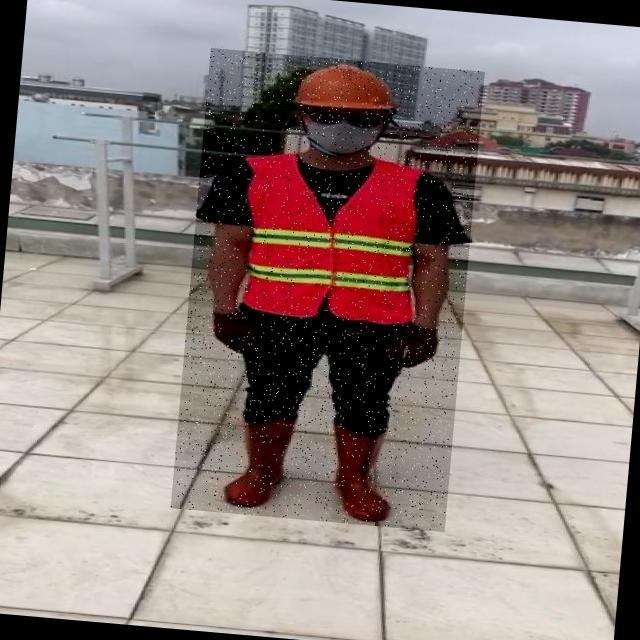Gloves: (212, 311, 269, 358), (393, 324, 445, 371)
Helmet: (297, 59, 405, 117)
Human: (171, 48, 486, 532)
Safety Boot: (324, 424, 402, 523), (229, 414, 303, 511)
Safety Vest: (239, 148, 427, 328)
